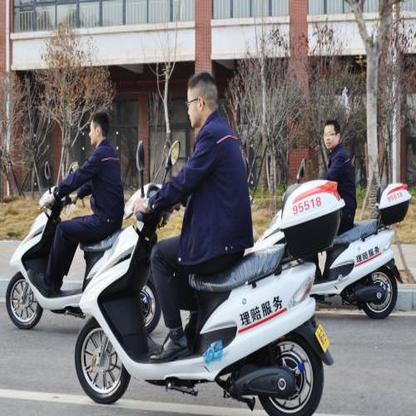target: (75, 72, 334, 408), (5, 111, 125, 324)
